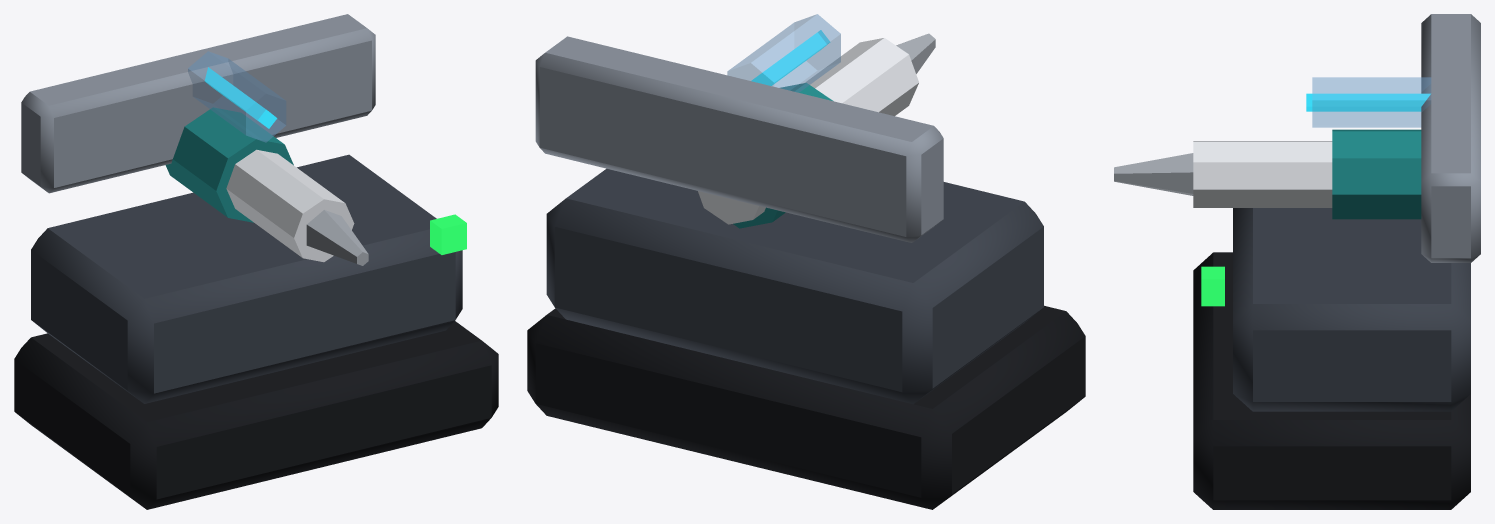
File: medtool_hypospray_dock.glb
3 views of the same model, side by side, from view 1: azimuth 30°, elevation 25°; view 2: azimuth 150°, elevation 25°; view 3: azimuth 270°, elevation 25° (orthographic). The views are drawn at different scales.
Parts seen in each view (by area): view 1: medtool_hypospray_dock; view 2: medtool_hypospray_dock; view 3: medtool_hypospray_dock.
Part boxes in pixels (box(x1,y1,x2,y2)): medtool_hypospray_dock: box(14, 14, 498, 509); medtool_hypospray_dock: box(527, 14, 1085, 509); medtool_hypospray_dock: box(1114, 14, 1480, 509).
Size of the model in its own units: 0.22 by 0.194 by 0.185.
